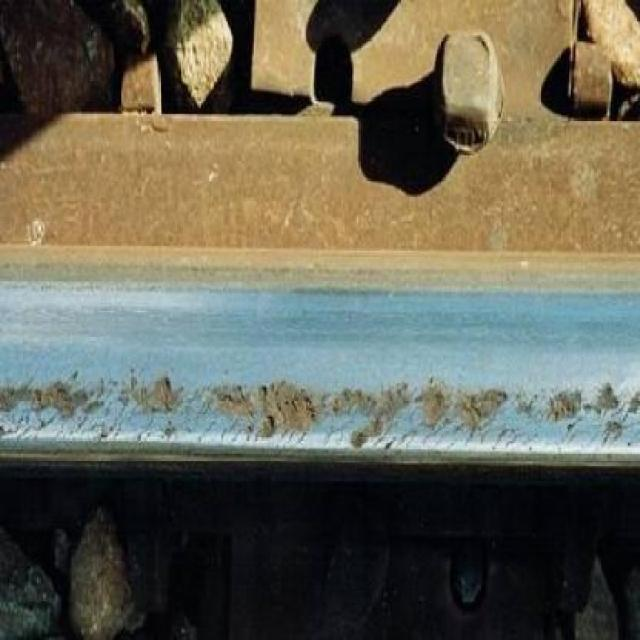defective: (4, 246, 640, 542)
